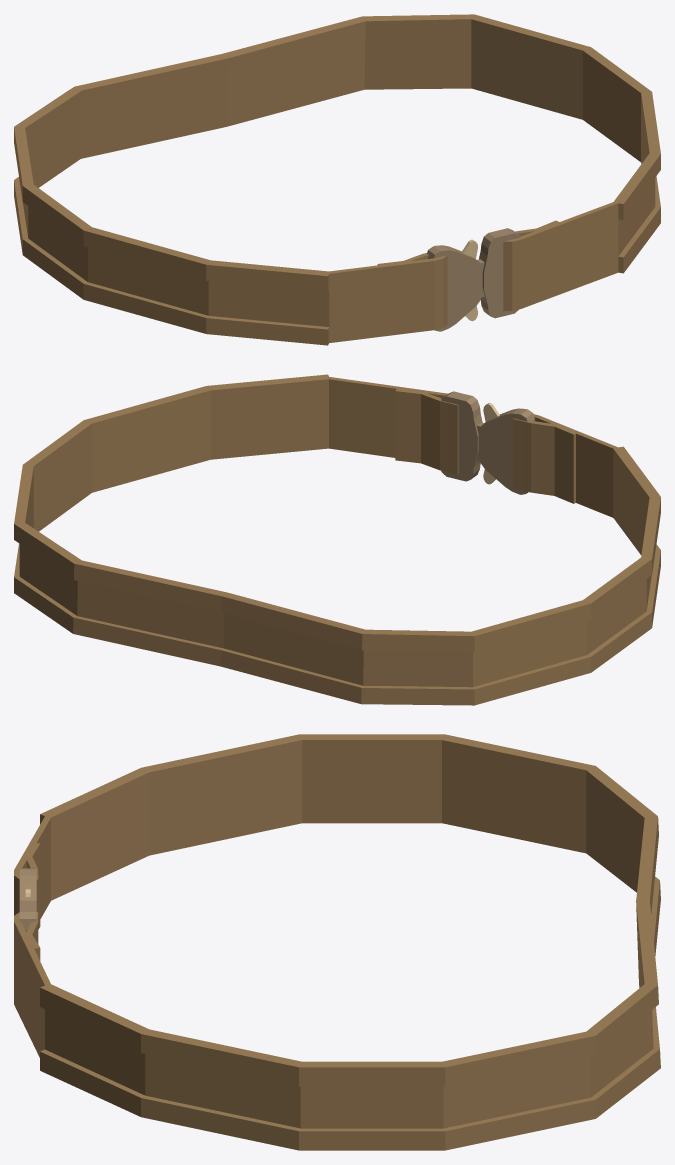
The model's file is BELT.fbx.
3 views of the same model, one above another, from view 1: azimuth 30°, elevation 25°; view 2: azimuth 150°, elevation 25°; view 3: azimuth 270°, elevation 25° (orthographic). The views are drawn at different scales.
Visible parts, largest first — view 1: Tactical Belt.001; view 2: Tactical Belt.001; view 3: Tactical Belt.001.
Boxes of the visible parts, bbox=[...] form: Tactical Belt.001: bbox=[14, 14, 660, 345]; Tactical Belt.001: bbox=[14, 374, 660, 705]; Tactical Belt.001: bbox=[14, 734, 660, 1150].
Size of the model in its own units: 115 by 15.46 by 94.05.
